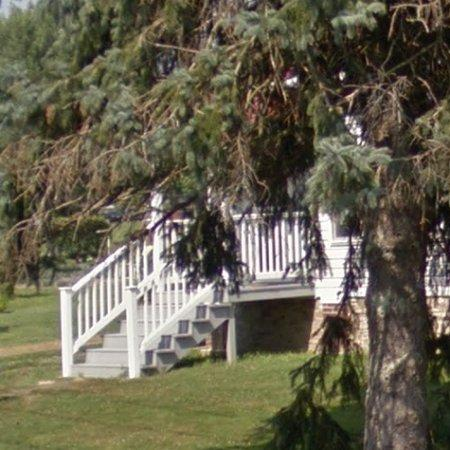stairs: (59, 196, 232, 378)
